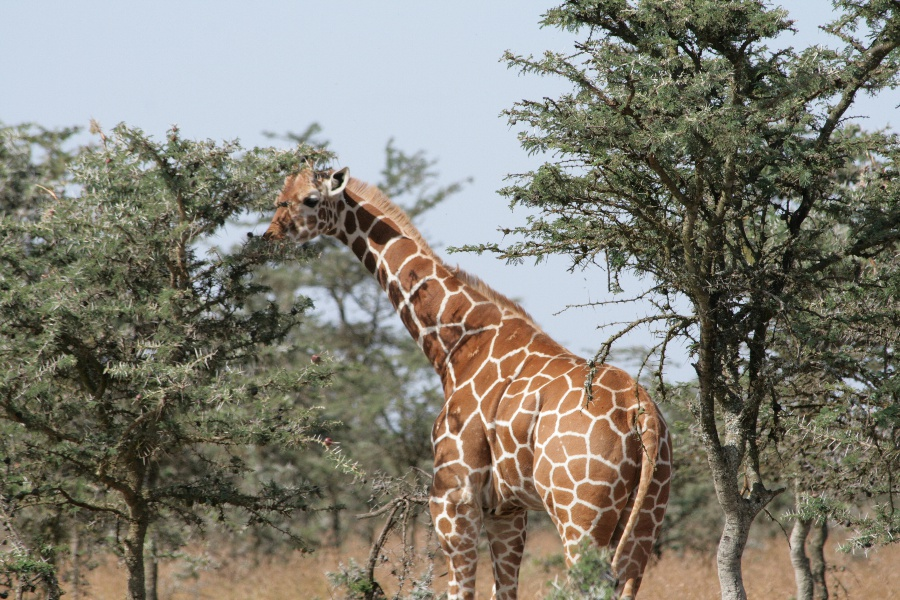giraffe: (254, 148, 690, 599)
